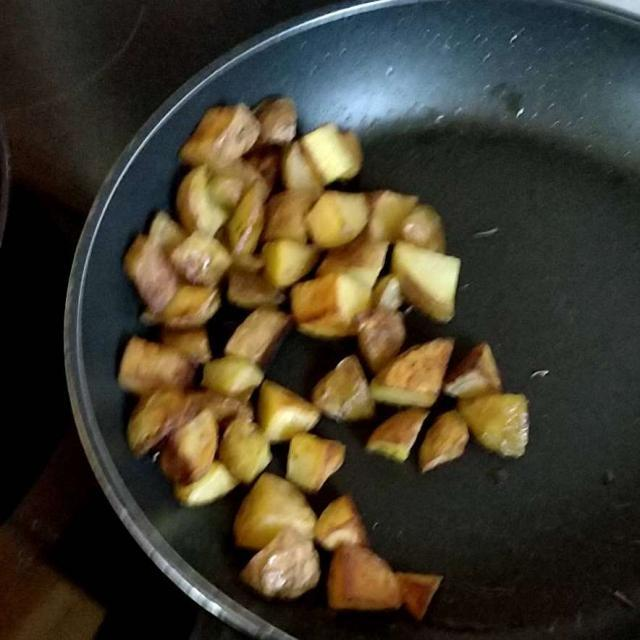baked-potato: (125, 111, 519, 616)
